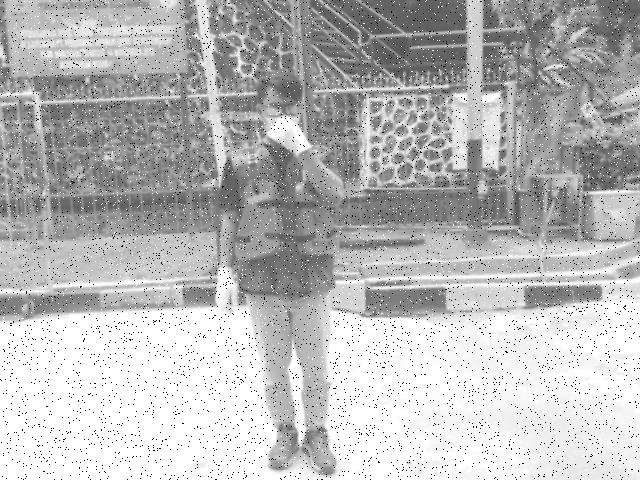glasses: (264, 103, 301, 116)
gloves: (264, 116, 313, 159), (214, 266, 239, 317)
mask: (266, 117, 299, 131)
safety-shoes: (300, 426, 338, 475), (267, 421, 300, 475)
vest: (234, 181, 343, 262)
